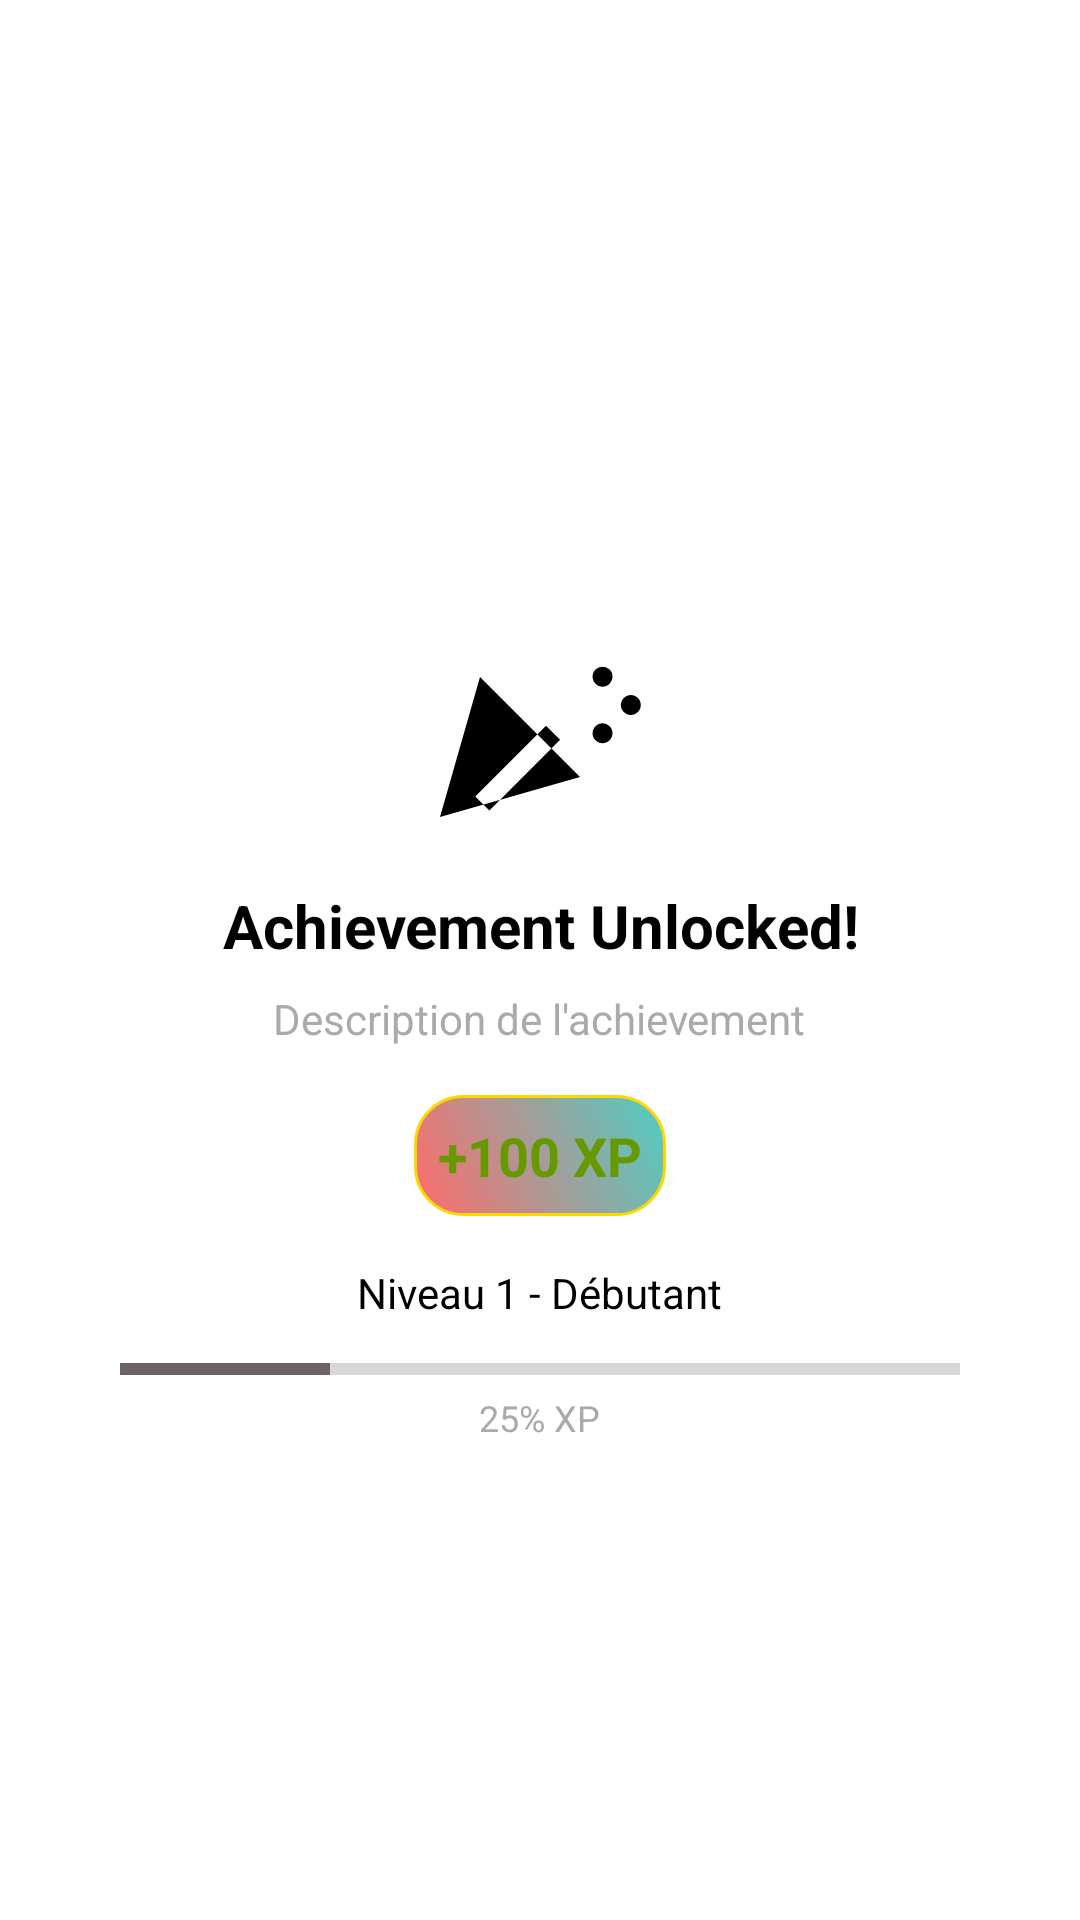

Screen size 1080 × 1920. Icon name, then its center in pixels as (x,y):
celebration: (540,741)
